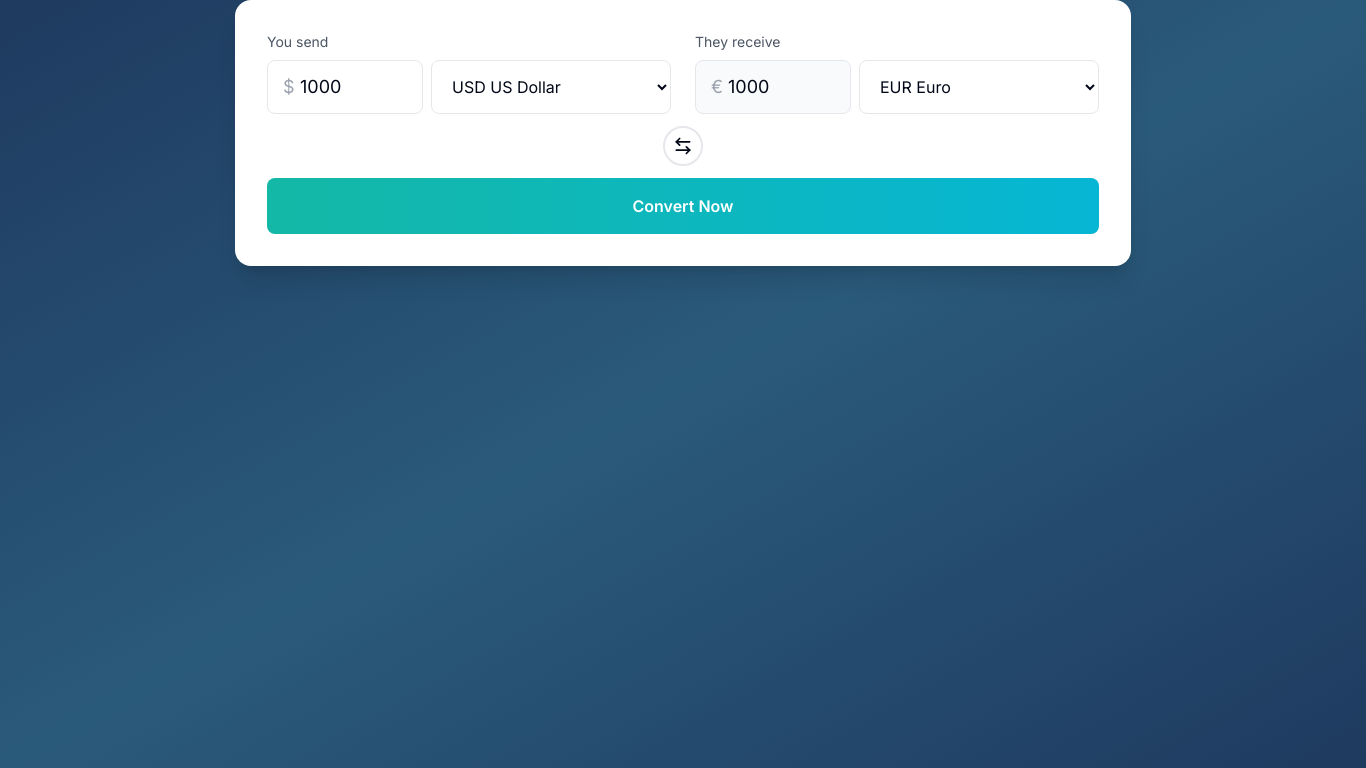
ConverterSection › should validate amount is greater than zero
Type "0" into the number field with placeholder "1000".
click(345, 87); type("0")  # box [267,60,423,114]
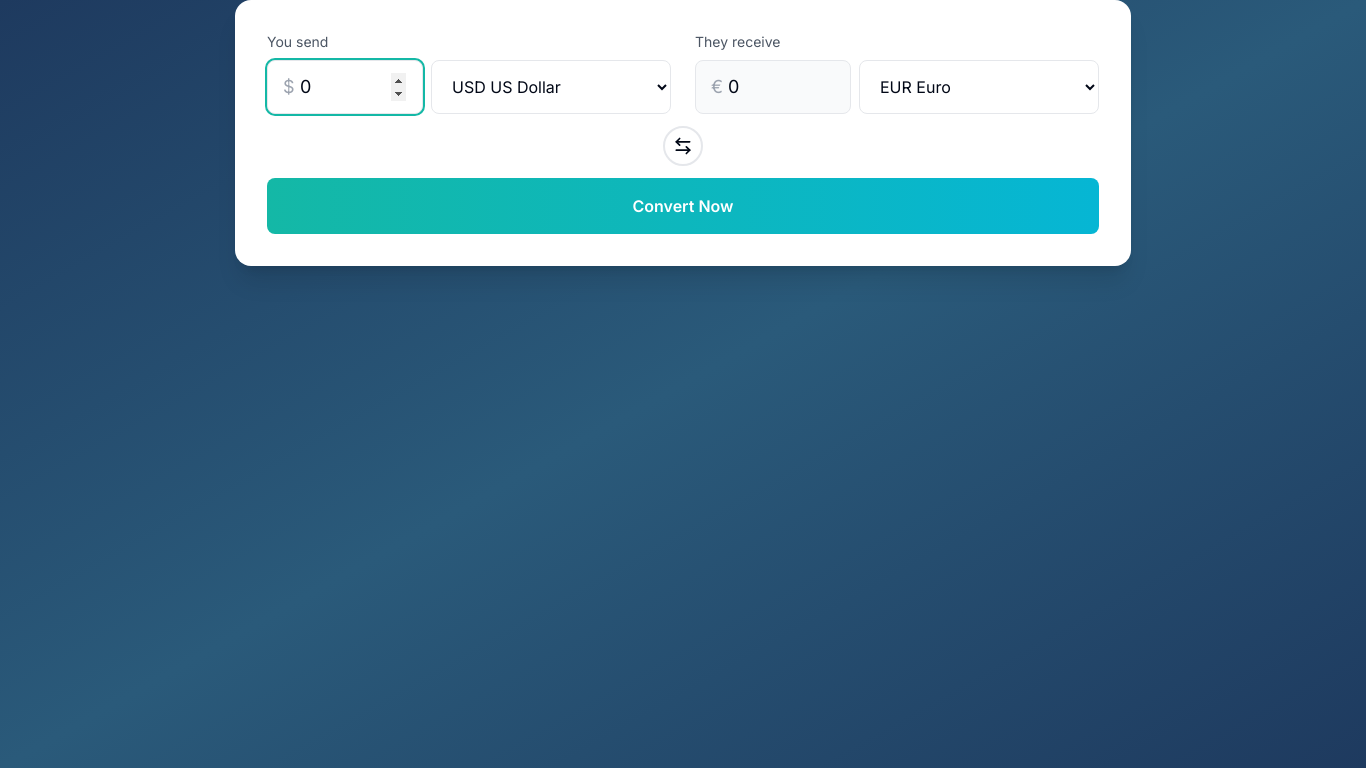
Click the button "Convert Now".
click(683, 206)  # box [267,178,1099,234]
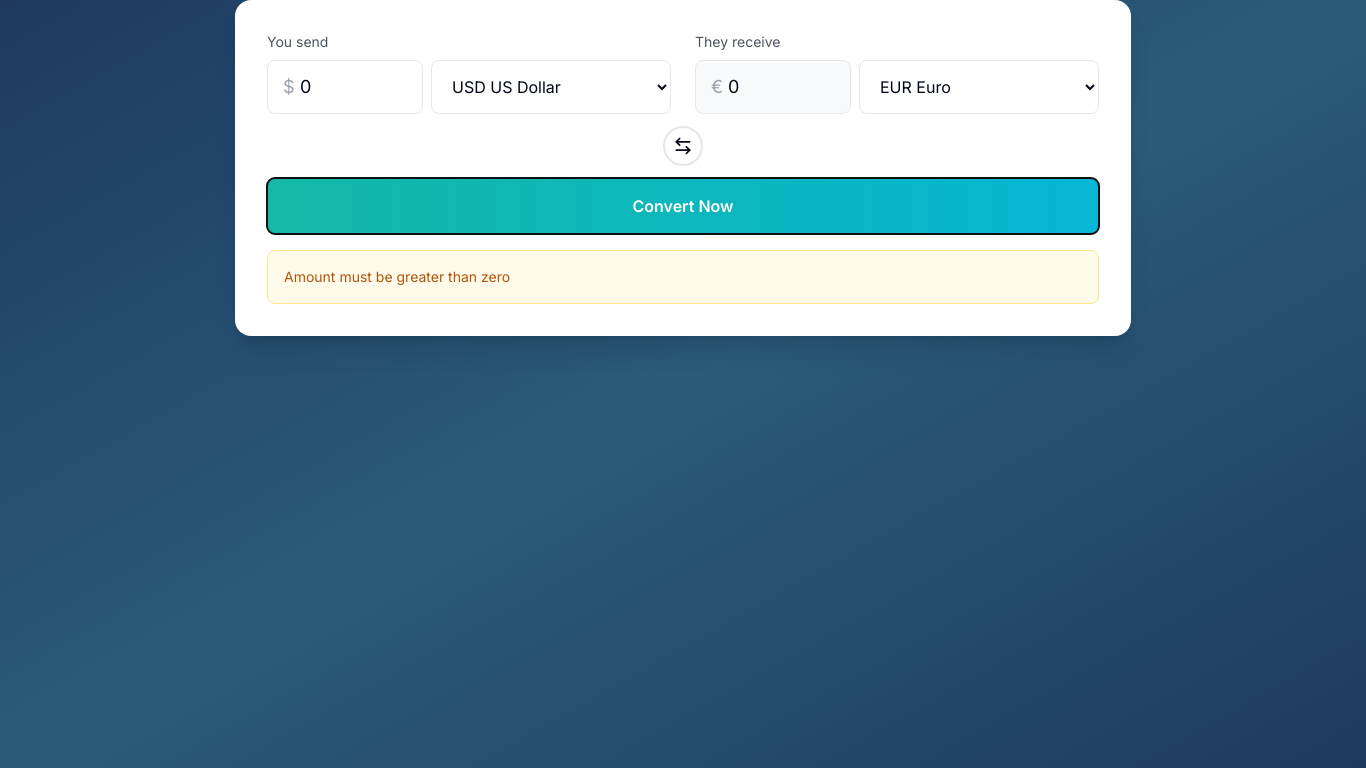
Expected: the text "Amount must be greater than zero" is shown, [267,250,1099,304]
